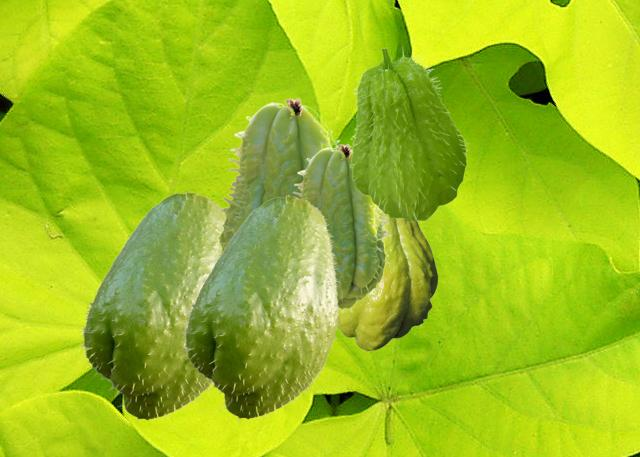sayote: (180, 195, 339, 421), (78, 191, 224, 422), (347, 45, 469, 221), (215, 97, 340, 257), (292, 143, 390, 313), (337, 214, 437, 350)
